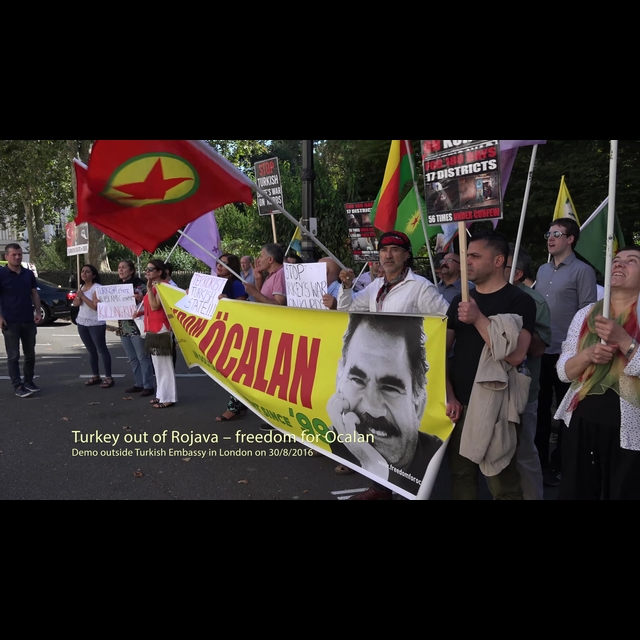APO: (332, 322, 428, 454)
PKK: (100, 149, 202, 220)
